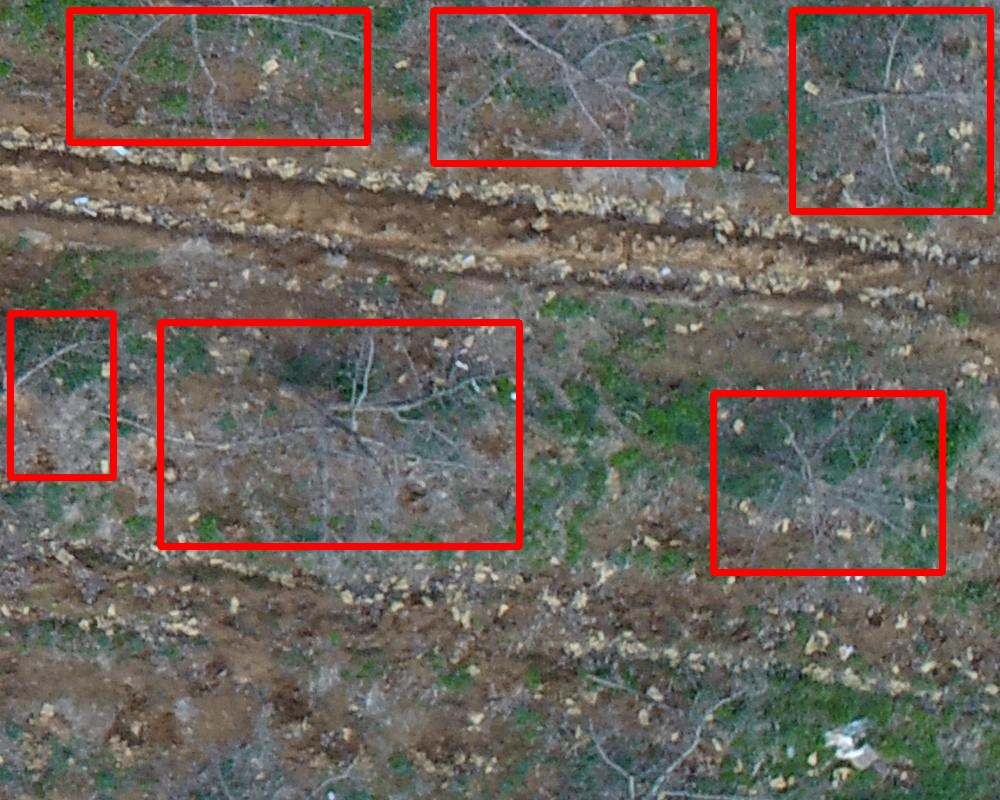apple: (160, 322, 519, 546), (433, 10, 713, 163), (713, 393, 942, 572), (792, 10, 990, 211), (69, 10, 367, 142), (10, 313, 113, 477)
